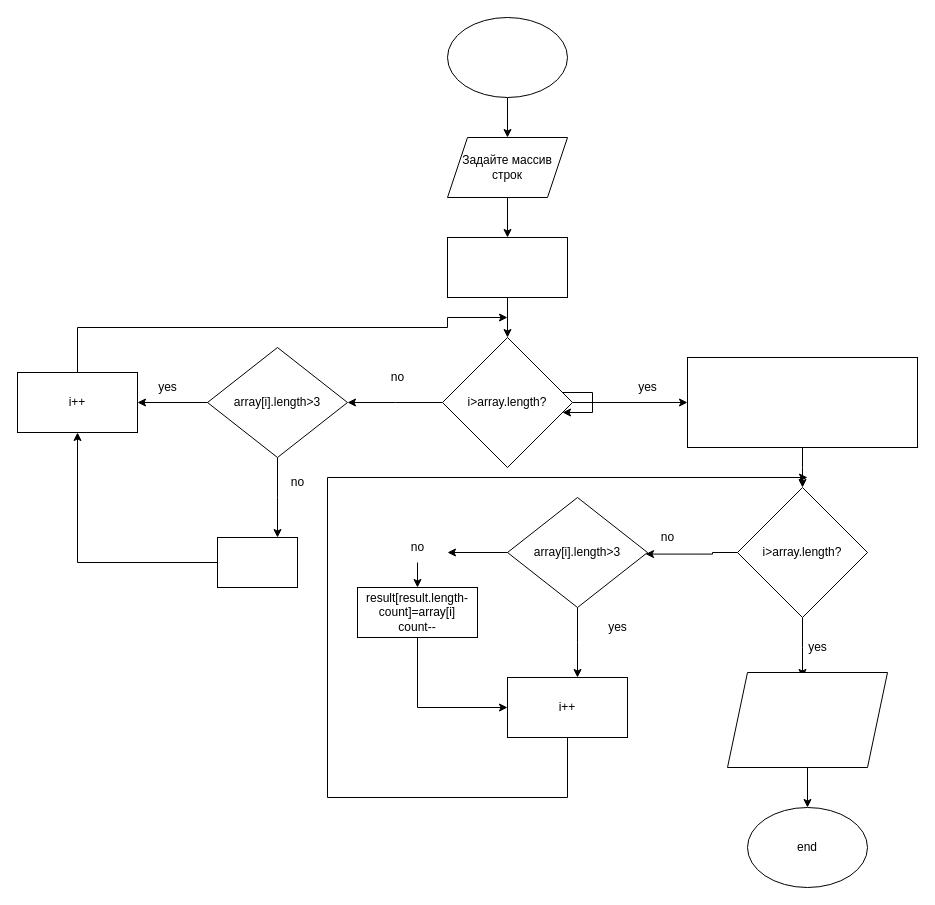
This 935x905 diagram has some shape labels left out. Each missing label, with the centre of its shape:
count = 0 i=0: the point at 507,267
count++: the point at 257,562
printarray (resultarray): the point at 807,720
start: the point at 507,57
string[]result= new string [count] i=0: the point at 802,402
